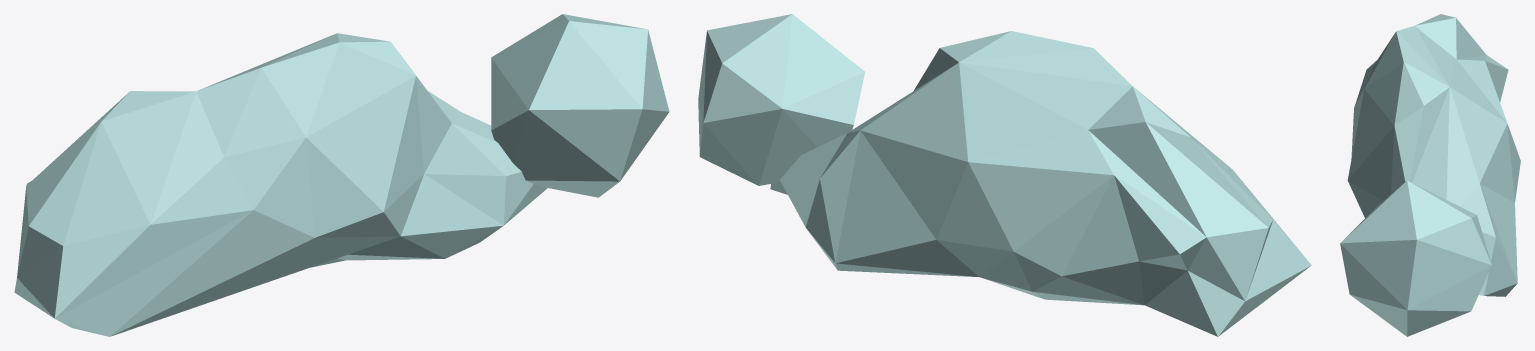
Rendered from cloud-005.glb.
3 renders of one model, left to right at view 1: azimuth 30°, elevation 25°; view 2: azimuth 150°, elevation 25°; view 3: azimuth 270°, elevation 25°, orthographic. The views are drawn at different scales.
Parts seen in each view (by area): view 1: cloud 4_28; view 2: cloud 4_28; view 3: cloud 4_28.
Boxes of the visible parts, <box> form: cloud 4_28: <box>14,14,669,336</box>; cloud 4_28: <box>698,14,1311,336</box>; cloud 4_28: <box>1340,14,1520,336</box>.
Size of the model in its own units: 2.01 by 0.7197 by 0.6268.
